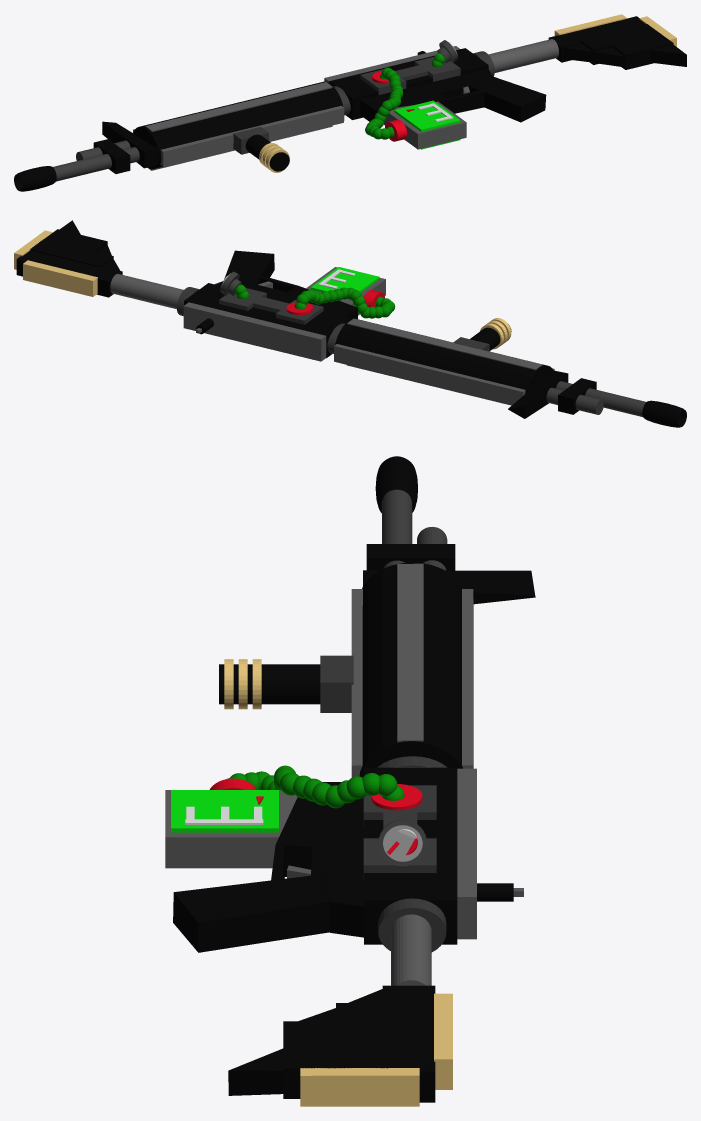
3 renders of one model, top to bottom at view 1: azimuth 30°, elevation 25°; view 2: azimuth 150°, elevation 25°; view 3: azimuth 270°, elevation 25°, orthographic. The views are drawn at different scales.
Parts seen in each view (by area): view 1: Cylinder.003, Cube.016, Cube.004, Cube, Cube.015, Cube.018, Cylinder, Cube.001, Cube.009, Cube.007, Cube.019, Cube.013 (+19 smaller); view 2: Cylinder.003, Cube.006, Cube.017, Cube, Cube.015, Cube.030, Cylinder, Cube.007, Cube.004, Cube.013, Cube.031, Cylinder.004 (+12 smaller); view 3: Cylinder.003, Cube.004, Cube, Cube.015, Cube.018, Cube.010, Cube.007, Cube.001, Cube.019, Cube.031, Cube.006, Cube.002 (+16 smaller).
Boxes of the visible parts, left/top/right/bottom form: Cylinder.003: left=133, top=81, right=343, bottom=169; Cube.016: left=160, top=105, right=344, bottom=166; Cube.004: left=465, top=76, right=546, bottom=122; Cube: left=329, top=48, right=488, bottom=119; Cube.015: left=145, top=82, right=332, bottom=170; Cube.018: left=384, top=101, right=466, bottom=149; Cylinder: left=488, top=39, right=558, bottom=72; Cube.001: left=360, top=83, right=447, bottom=124; Cube.009: left=612, top=33, right=673, bottom=69; Cube.007: left=548, top=16, right=645, bottom=62; Cube.019: left=394, top=100, right=460, bottom=149; Cube.013: left=102, top=121, right=158, bottom=168; Cylinder.003: left=335, top=319, right=553, bottom=393; Cube.006: left=183, top=302, right=326, bottom=361; Cube.017: left=334, top=344, right=525, bottom=404; Cube: left=184, top=283, right=350, bottom=358; Cube.015: left=347, top=318, right=542, bottom=405; Cube.030: left=23, top=260, right=97, bottom=296; Cylinder: left=110, top=273, right=183, bottom=309; Cube.007: left=16, top=250, right=122, bottom=297; Cube.004: left=223, top=250, right=274, bottom=286; Cube.013: left=508, top=370, right=568, bottom=418; Cube.031: left=30, top=239, right=113, bottom=267; Cylinder.004: left=556, top=381, right=645, bottom=416; Cylinder.003: left=359, top=562, right=462, bottom=777; Cube.004: left=173, top=874, right=329, bottom=952; Cube: left=364, top=767, right=457, bottom=944; Cube.015: left=397, top=563, right=423, bottom=742; Cube.018: left=165, top=790, right=297, bottom=868; Cube.010: left=300, top=1068, right=419, bottom=1106; Cube.007: left=382, top=985, right=435, bottom=1102; Cube.001: left=275, top=782, right=363, bottom=876; Cube.019: left=171, top=790, right=278, bottom=832; Cube.031: left=336, top=1003, right=388, bottom=1068; Cube.006: left=457, top=768, right=476, bottom=939; Cube.002: left=317, top=847, right=363, bottom=937.
Bounding box in the file's own units: 8621 × 735 × 2178.
